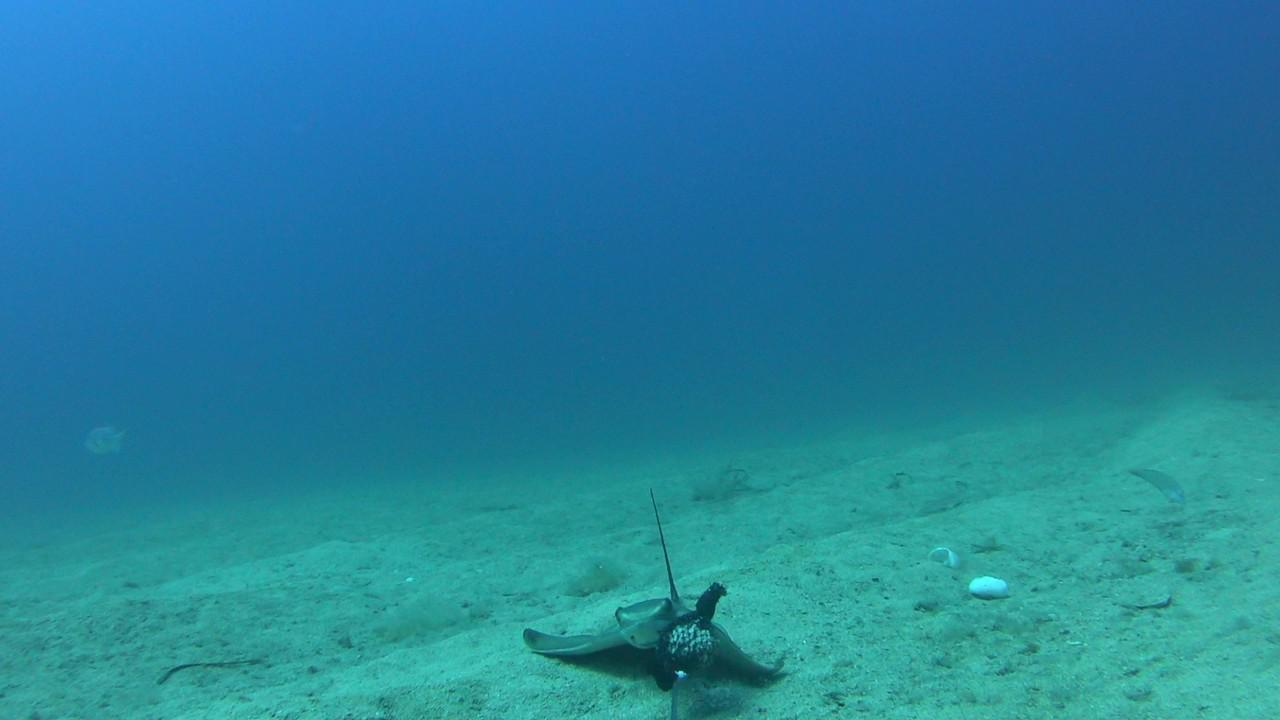balistes: (86, 422, 127, 457)
myliobatis: (507, 485, 796, 681)
raor: (1123, 468, 1187, 507)
